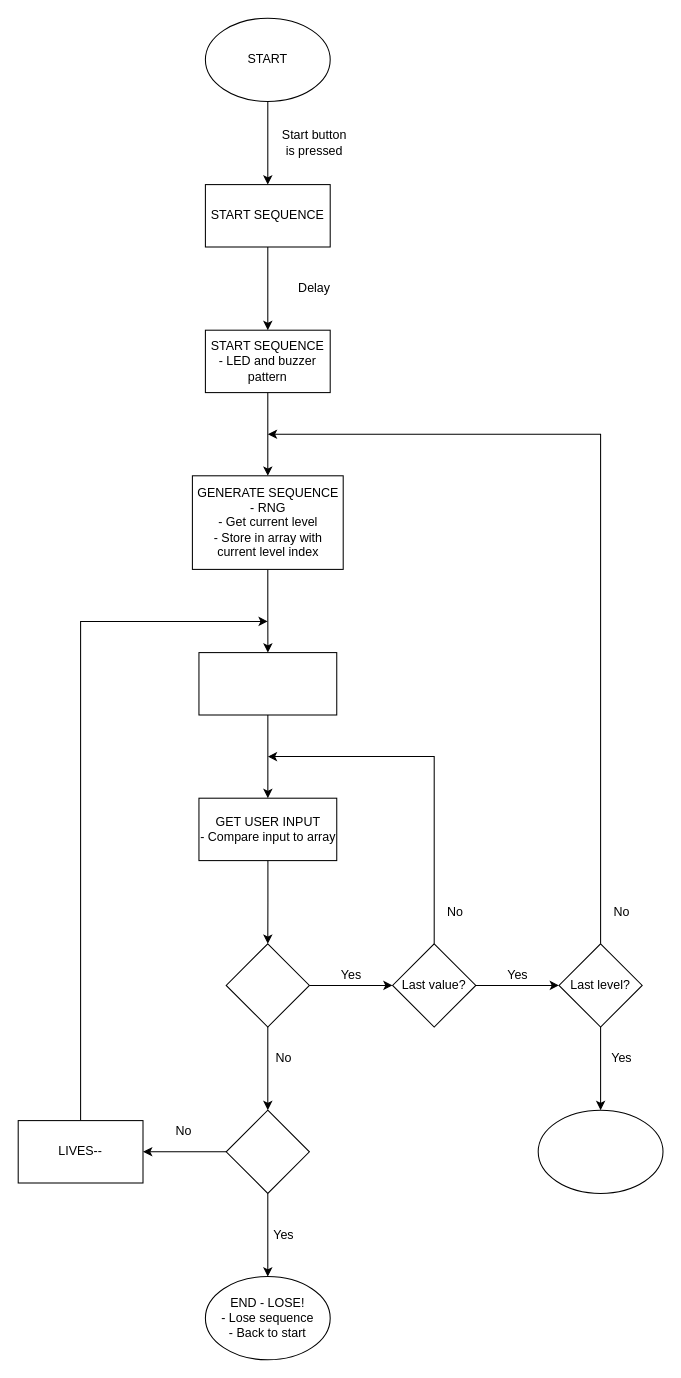
Image size: 681x1378. Some labels were removed from this diagram. The box of each missing label's shape, as (x1, y1, x2, y2) in pixels:
Correct?: (225, 943, 309, 1027)
END - WIN! - Win sequence - Back to start: (537, 1109, 663, 1193)
Lives = 0?: (225, 1109, 309, 1193)
SHOW SEQUENCE - LED - Buzzer: (198, 652, 337, 715)
